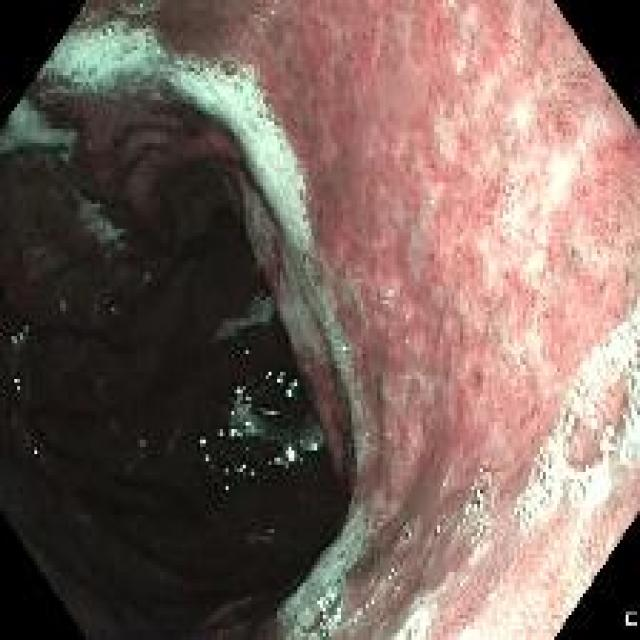bubbles: (230, 115, 333, 252), (273, 503, 374, 638), (34, 19, 187, 105), (274, 250, 356, 364), (562, 368, 627, 474), (190, 60, 266, 135), (2, 94, 79, 159), (333, 364, 378, 461), (214, 287, 276, 343), (75, 190, 122, 247), (456, 471, 493, 525), (388, 600, 438, 638), (266, 1, 308, 35), (462, 523, 493, 565), (570, 465, 599, 504), (533, 446, 557, 489), (120, 2, 167, 20), (498, 173, 520, 206), (217, 53, 240, 84), (157, 40, 176, 69), (399, 518, 415, 540), (101, 23, 121, 40)
contrast: (1, 125, 347, 639)
saturation: (417, 514, 617, 637), (523, 316, 634, 527), (492, 105, 579, 266)
specularity: (588, 324, 632, 386), (511, 476, 556, 521), (315, 595, 343, 633), (596, 419, 621, 460), (270, 367, 297, 399), (270, 442, 299, 470), (7, 322, 32, 348), (472, 485, 489, 517), (536, 448, 552, 481), (382, 559, 406, 580), (234, 378, 252, 403), (380, 286, 397, 312), (565, 408, 578, 439), (575, 372, 589, 400), (470, 523, 486, 546), (27, 442, 42, 464), (13, 373, 25, 400), (194, 435, 213, 452), (430, 515, 445, 536), (202, 448, 215, 468), (402, 525, 415, 543), (235, 460, 247, 479), (391, 581, 405, 597), (220, 460, 230, 476), (445, 2, 458, 14), (225, 61, 235, 76), (224, 480, 232, 496), (134, 0, 145, 11), (103, 24, 113, 36), (503, 182, 511, 195), (167, 57, 175, 66)
